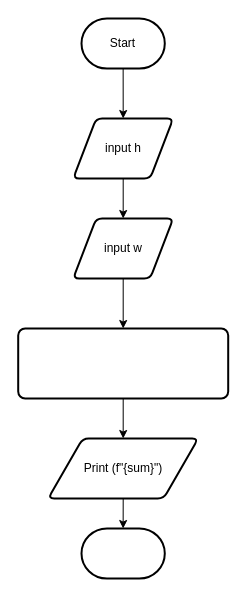
Some shapes in this 246 by 596 pixel diagram are drawn without their labels. The shapes that lost their labels are listed below. From the top down, each one's box as (x1, y1, x2, y2) in pixels, then its label:
(17, 327, 229, 399): 2*(ความกว้าง+ความสูง)
(80, 527, 165, 579): Stop
